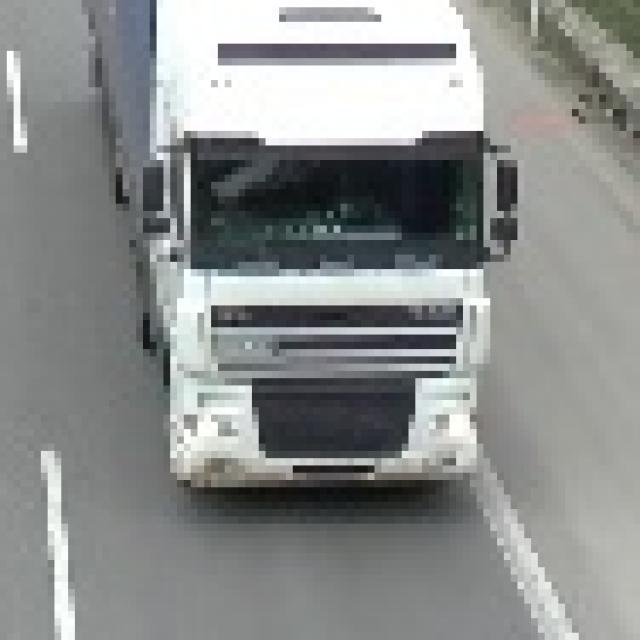TRUCK: (148, 0, 490, 505)
